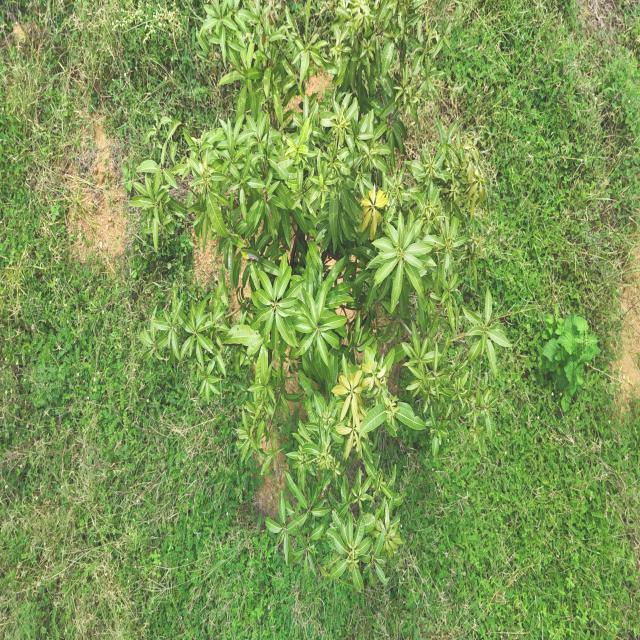mangoTree: (124, 0, 513, 600)
notMangoTree: (537, 300, 603, 415)
